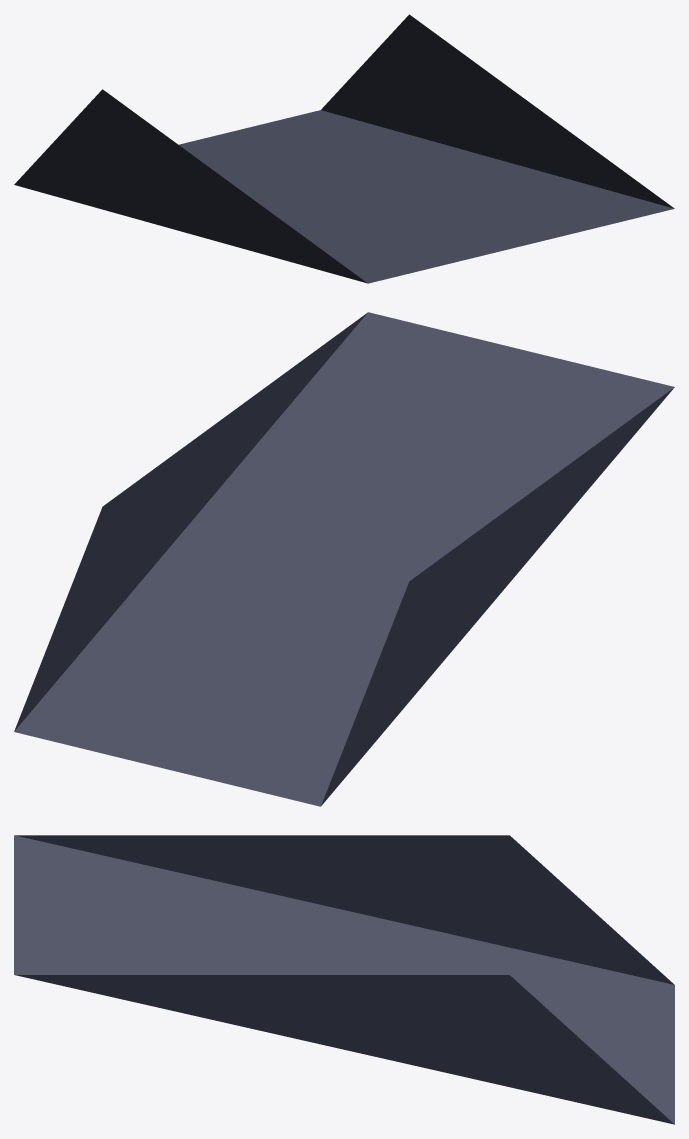
Rendered from terrain_rampLarge.glb.
3 renders of one model, top to bottom at view 1: azimuth 30°, elevation 25°; view 2: azimuth 150°, elevation 25°; view 3: azimuth 270°, elevation 25°, orthographic. The views are drawn at different scales.
Parts seen in each view (by area): view 1: terrain_rampLarge; view 2: terrain_rampLarge; view 3: terrain_rampLarge.
Part boxes in pixels (box(x1,y1,x2,y2)): terrain_rampLarge: box(14, 14, 674, 283); terrain_rampLarge: box(14, 312, 674, 806); terrain_rampLarge: box(14, 835, 674, 1124).
Size of the model in its own units: 1 by 0.5 by 2.
